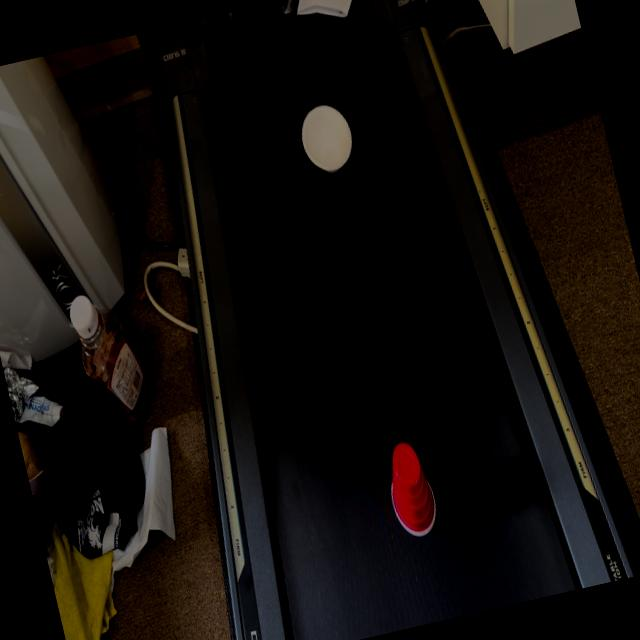Recycle: (384, 442, 440, 534)
Trash: (293, 95, 360, 177)
